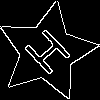H: (21, 27, 80, 85)
